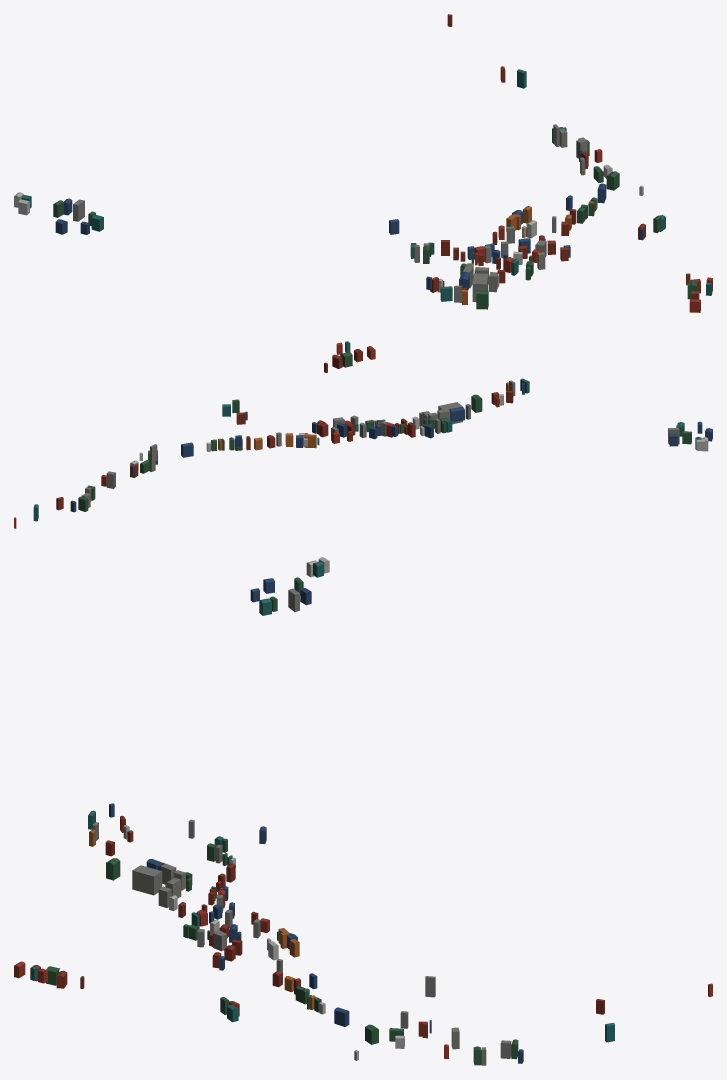
Rendered from near-15-27368-14873.3947fc9d.glb.
3 views of the same model, one above another, from view 1: azimuth 30°, elevation 25°; view 2: azimuth 150°, elevation 25°; view 3: azimuth 270°, elevation 25° (orthographic). The views are drawn at different scales.
Bounding box in the file's own units: 1081 × 274 × 967.
